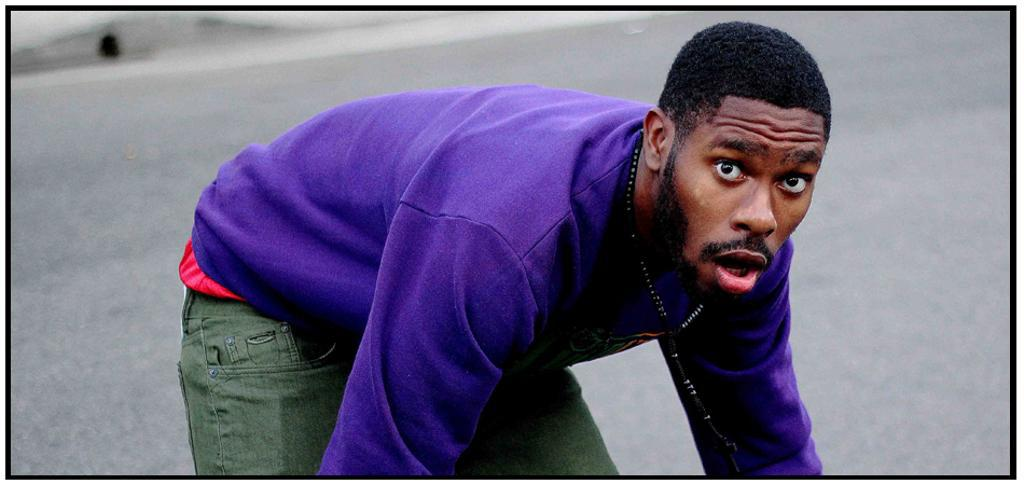face: (681, 89, 815, 299)
